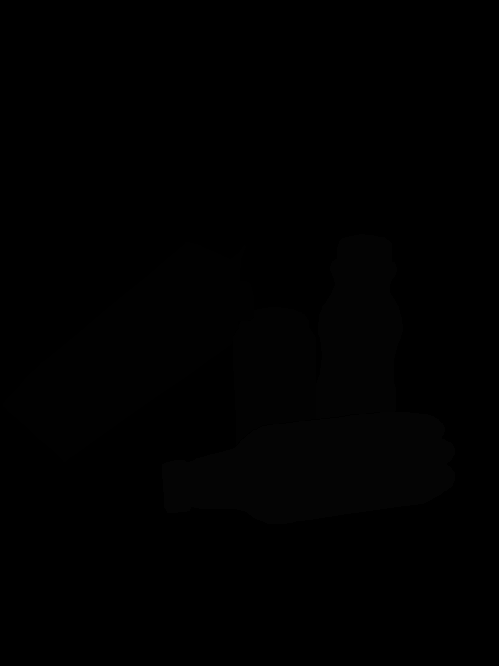can: (229, 303, 318, 448)
carton: (2, 235, 257, 467)
milk_bottle: (311, 231, 406, 428)
water_bottle: (157, 409, 458, 529)
